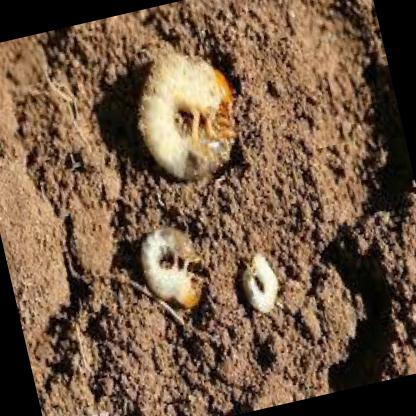root grubs: (140, 52, 235, 184), (141, 229, 207, 307), (243, 256, 278, 312)
